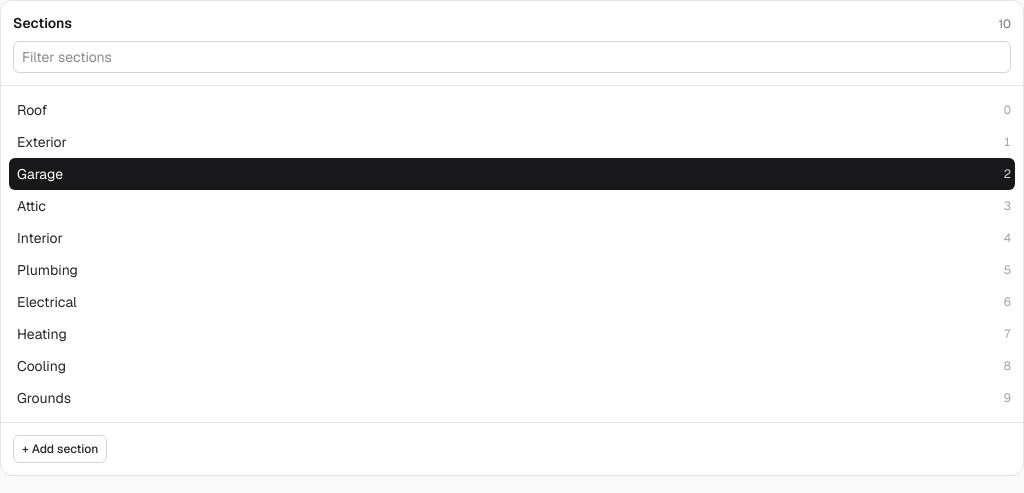
Test case: SectionSidebar › marks the open section, disables impossible moves, and filters long lists
Type "ING" into the search field labelled "Filter sections".
click(512, 57); type("ING")  # box [13,41,1011,73]
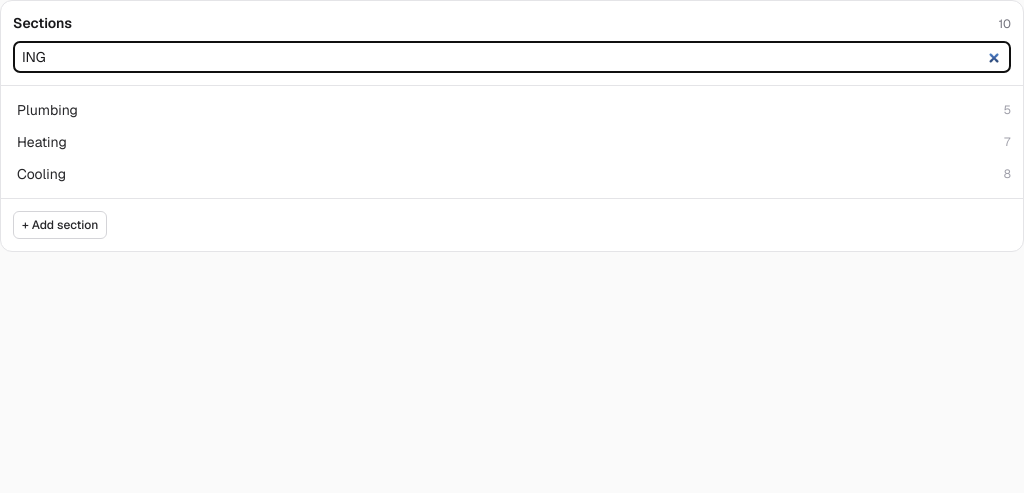
Expected: the links read "Plumbing", "Heating", "Cooling", in this order, [17,101,78,119]; [17,133,67,151]; [17,165,66,183]
Replace the text in the search field with "zzz" at coordinates (512, 57), box [13,41,1011,73]
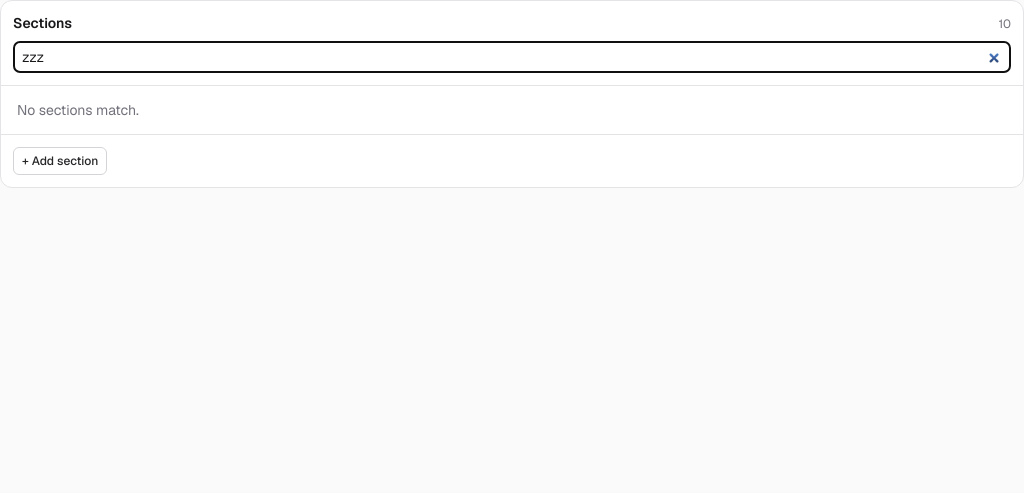
Expected: the list item "No sections match." is shown, [17,101,139,119]
